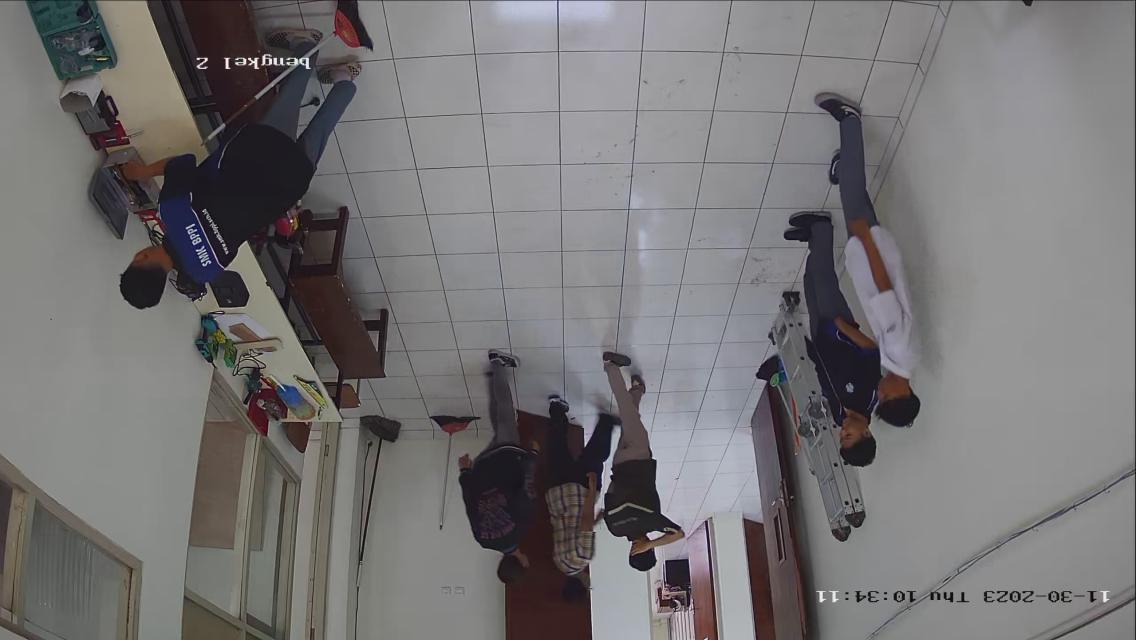Person-Crowd: (788, 96, 921, 482), (464, 349, 543, 591), (587, 330, 667, 567), (534, 392, 606, 612)
